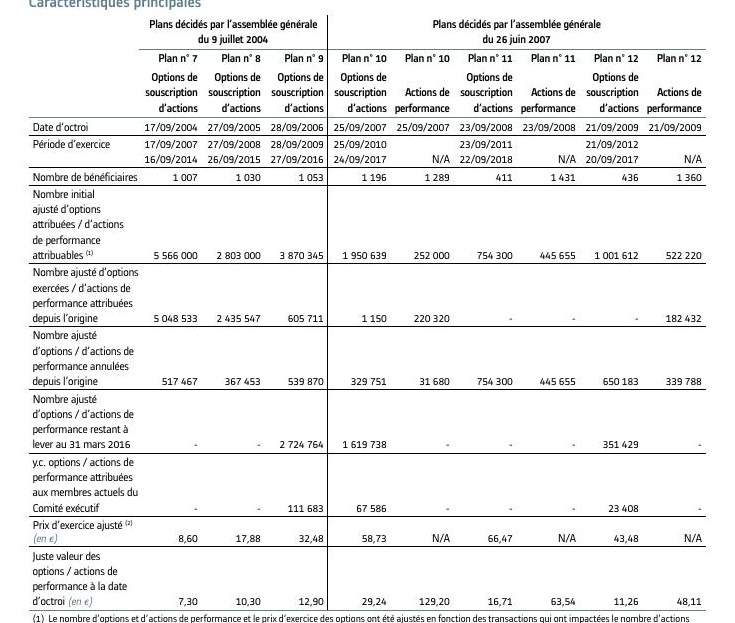table: (0, 0, 735, 623)
